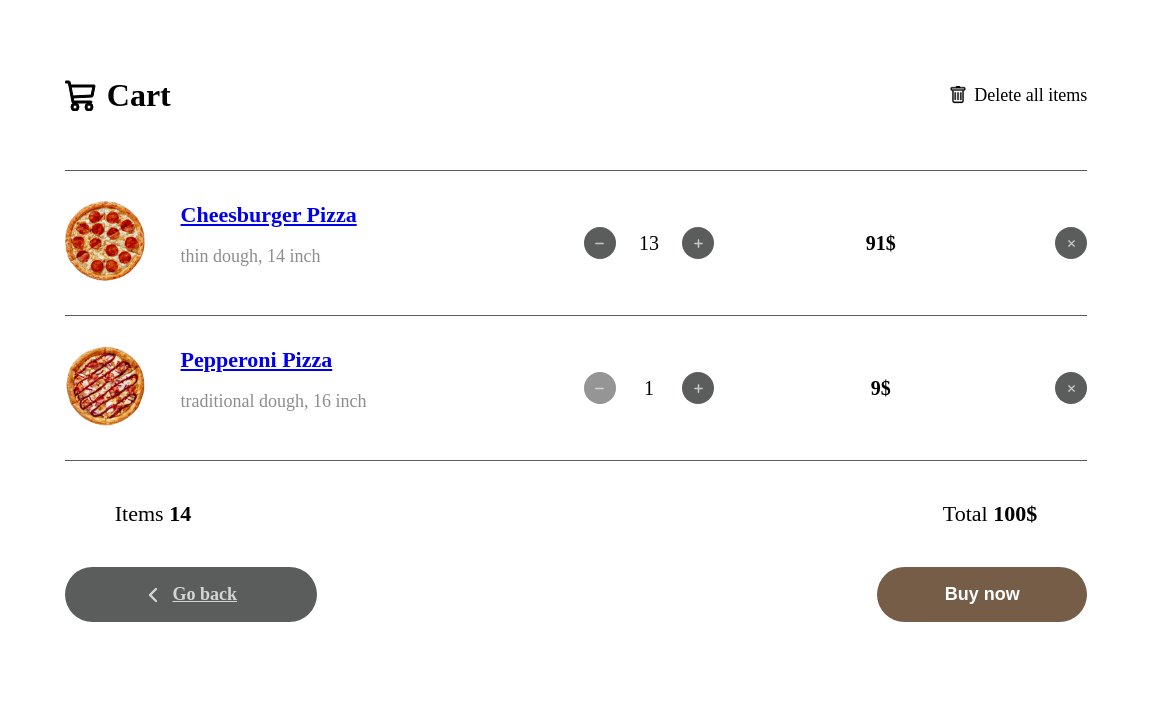
OrderModal tests › OrderModal logic › should successfully sumbit the form
This screenshot has width=1152, height=720.
Click the button "Buy now".
click(982, 595)  # box [877,567,1087,622]
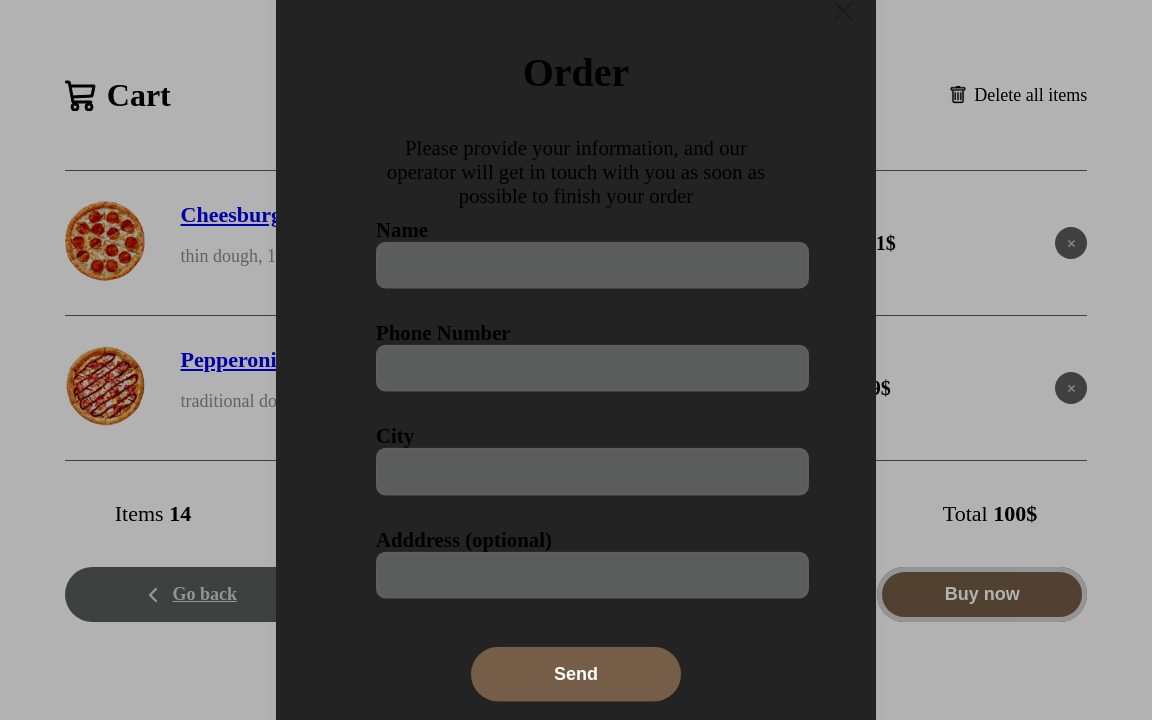
Type "4730395859" into the number field.
click(592, 368); type("4730395859")  # box [376,345,809,392]
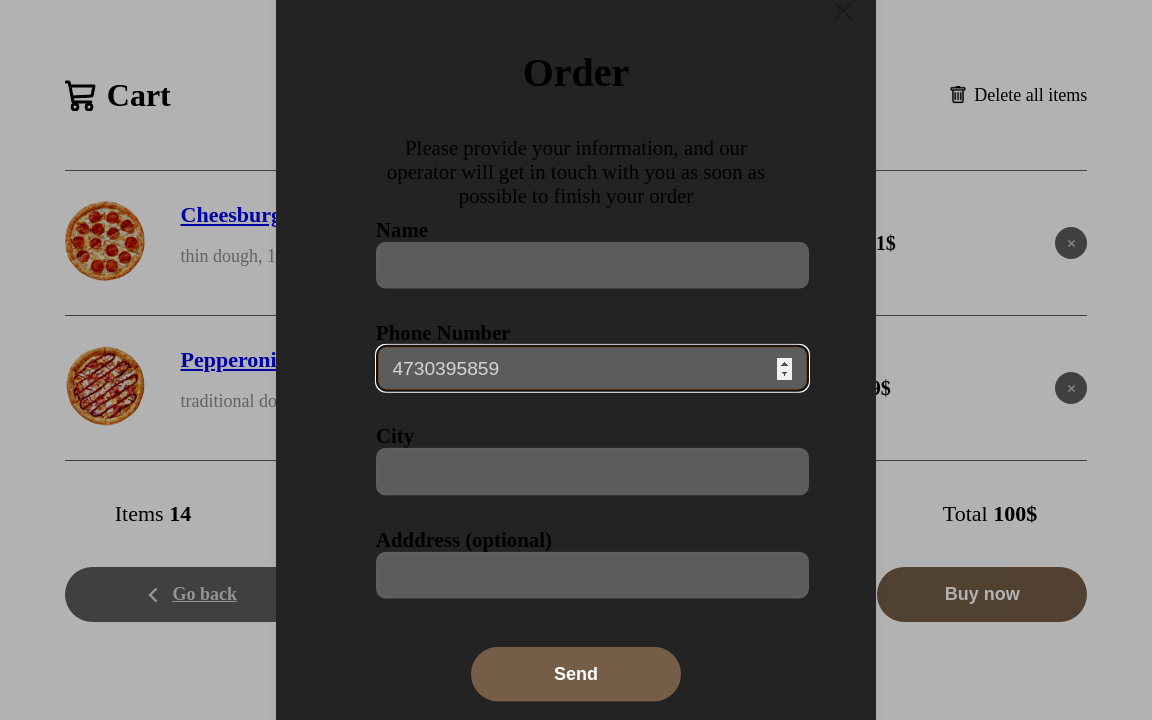
Type "Alex" into the field labelled "Name".
click(592, 265); type("Alex")  # box [376,242,809,289]
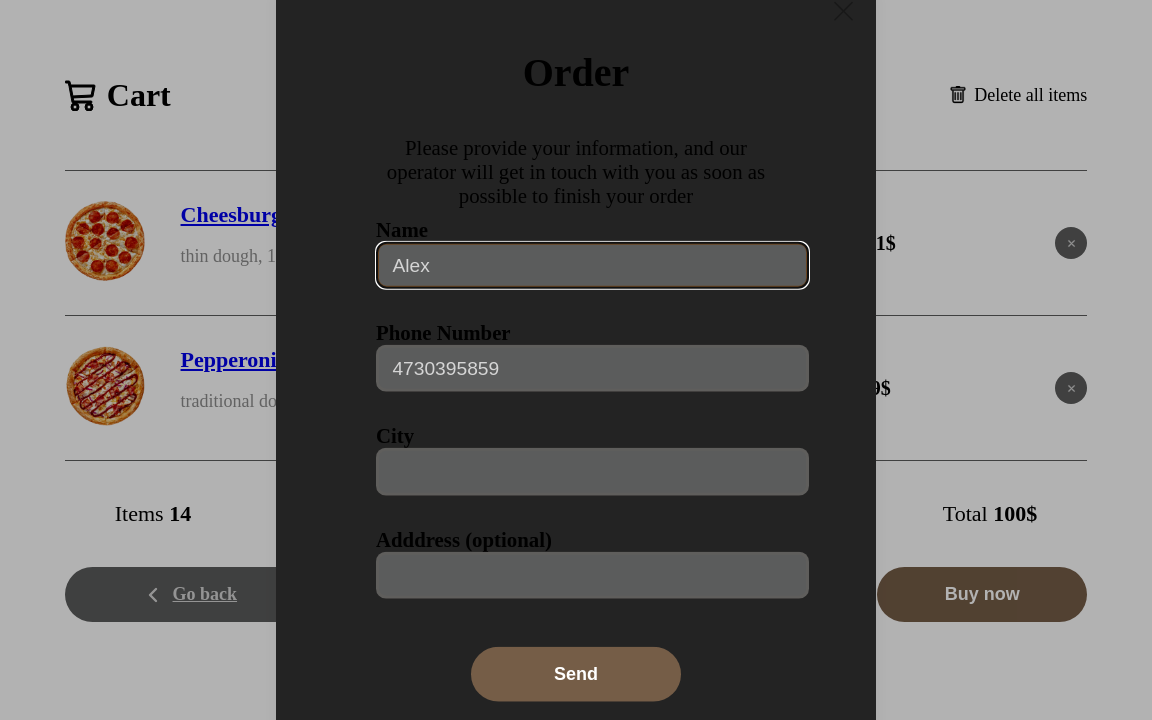
Type "Toronto" into the field labelled "City".
click(592, 472); type("Toronto")  # box [376,448,809,495]
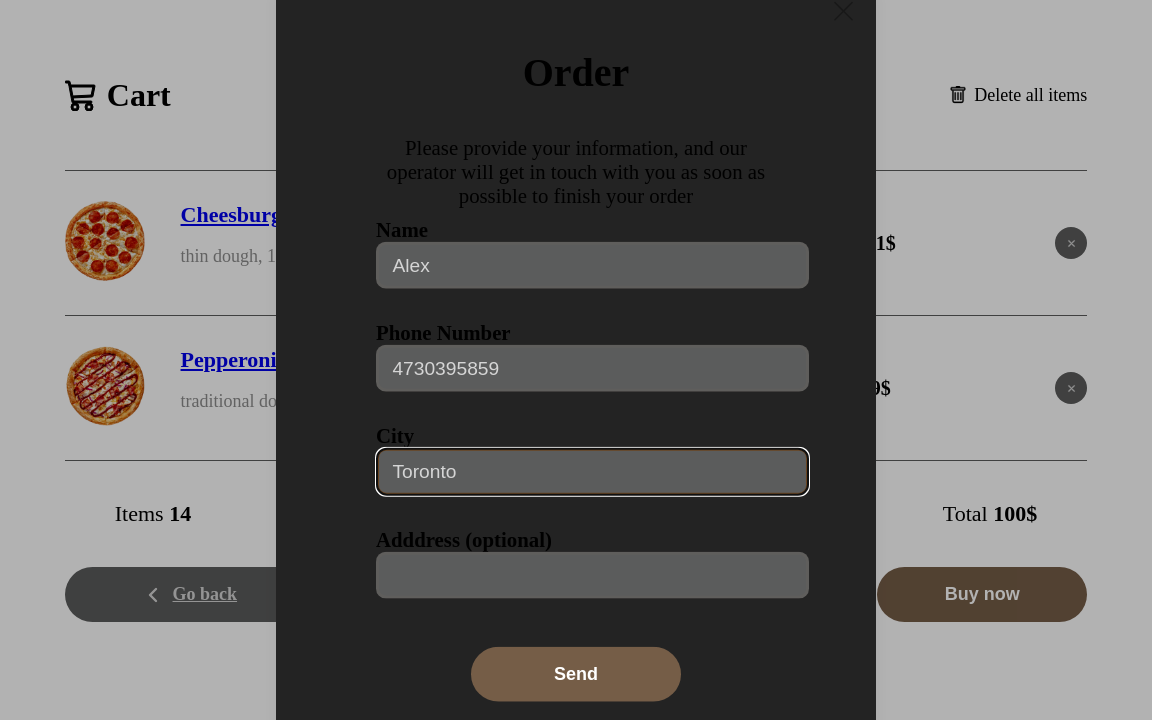
Type "some address" into the field labelled "Adddress (optional)".
click(592, 575); type("some address")  # box [376,551,809,598]
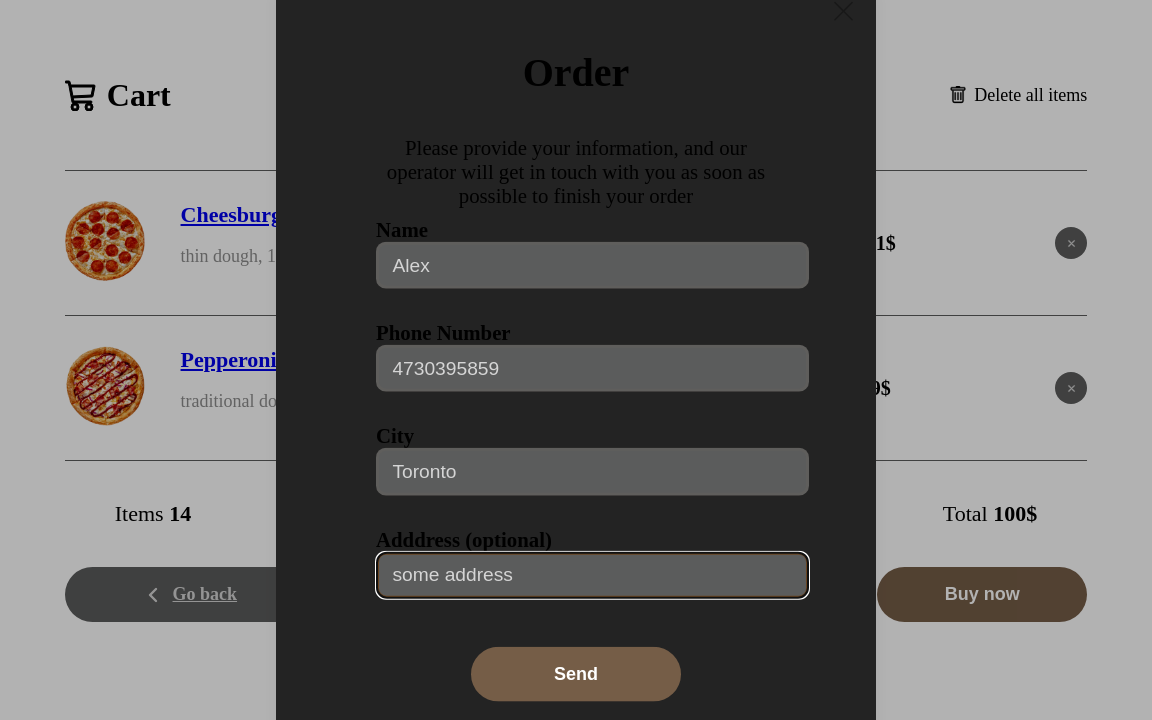
Click the button "Send".
click(576, 674)  # box [471,646,681,701]
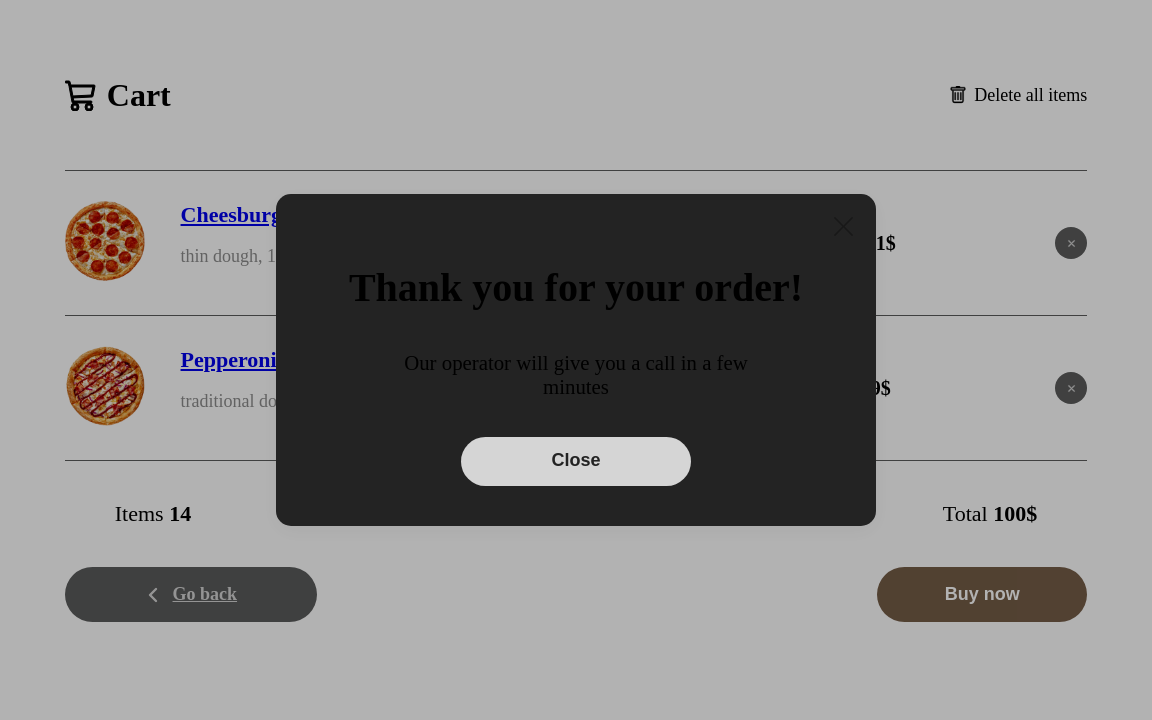
Now the heading "Thank you for your order!" is shown, box [349,265,803,310]
